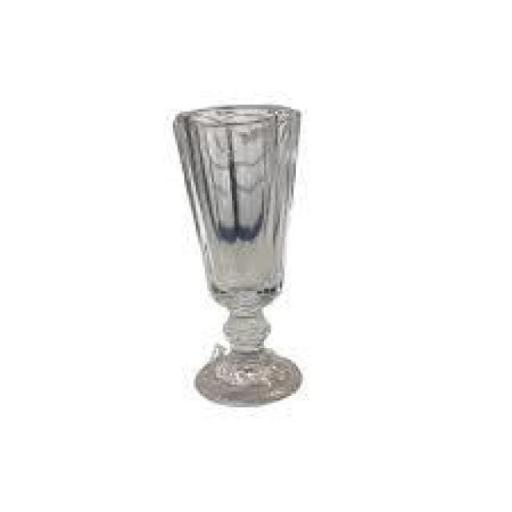glass: (168, 98, 317, 412)
